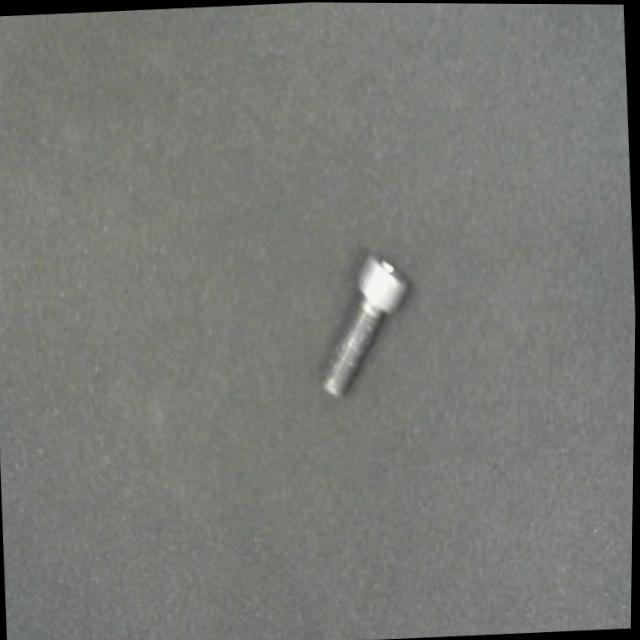SocketHeadCapScrew: (316, 250, 418, 402)
